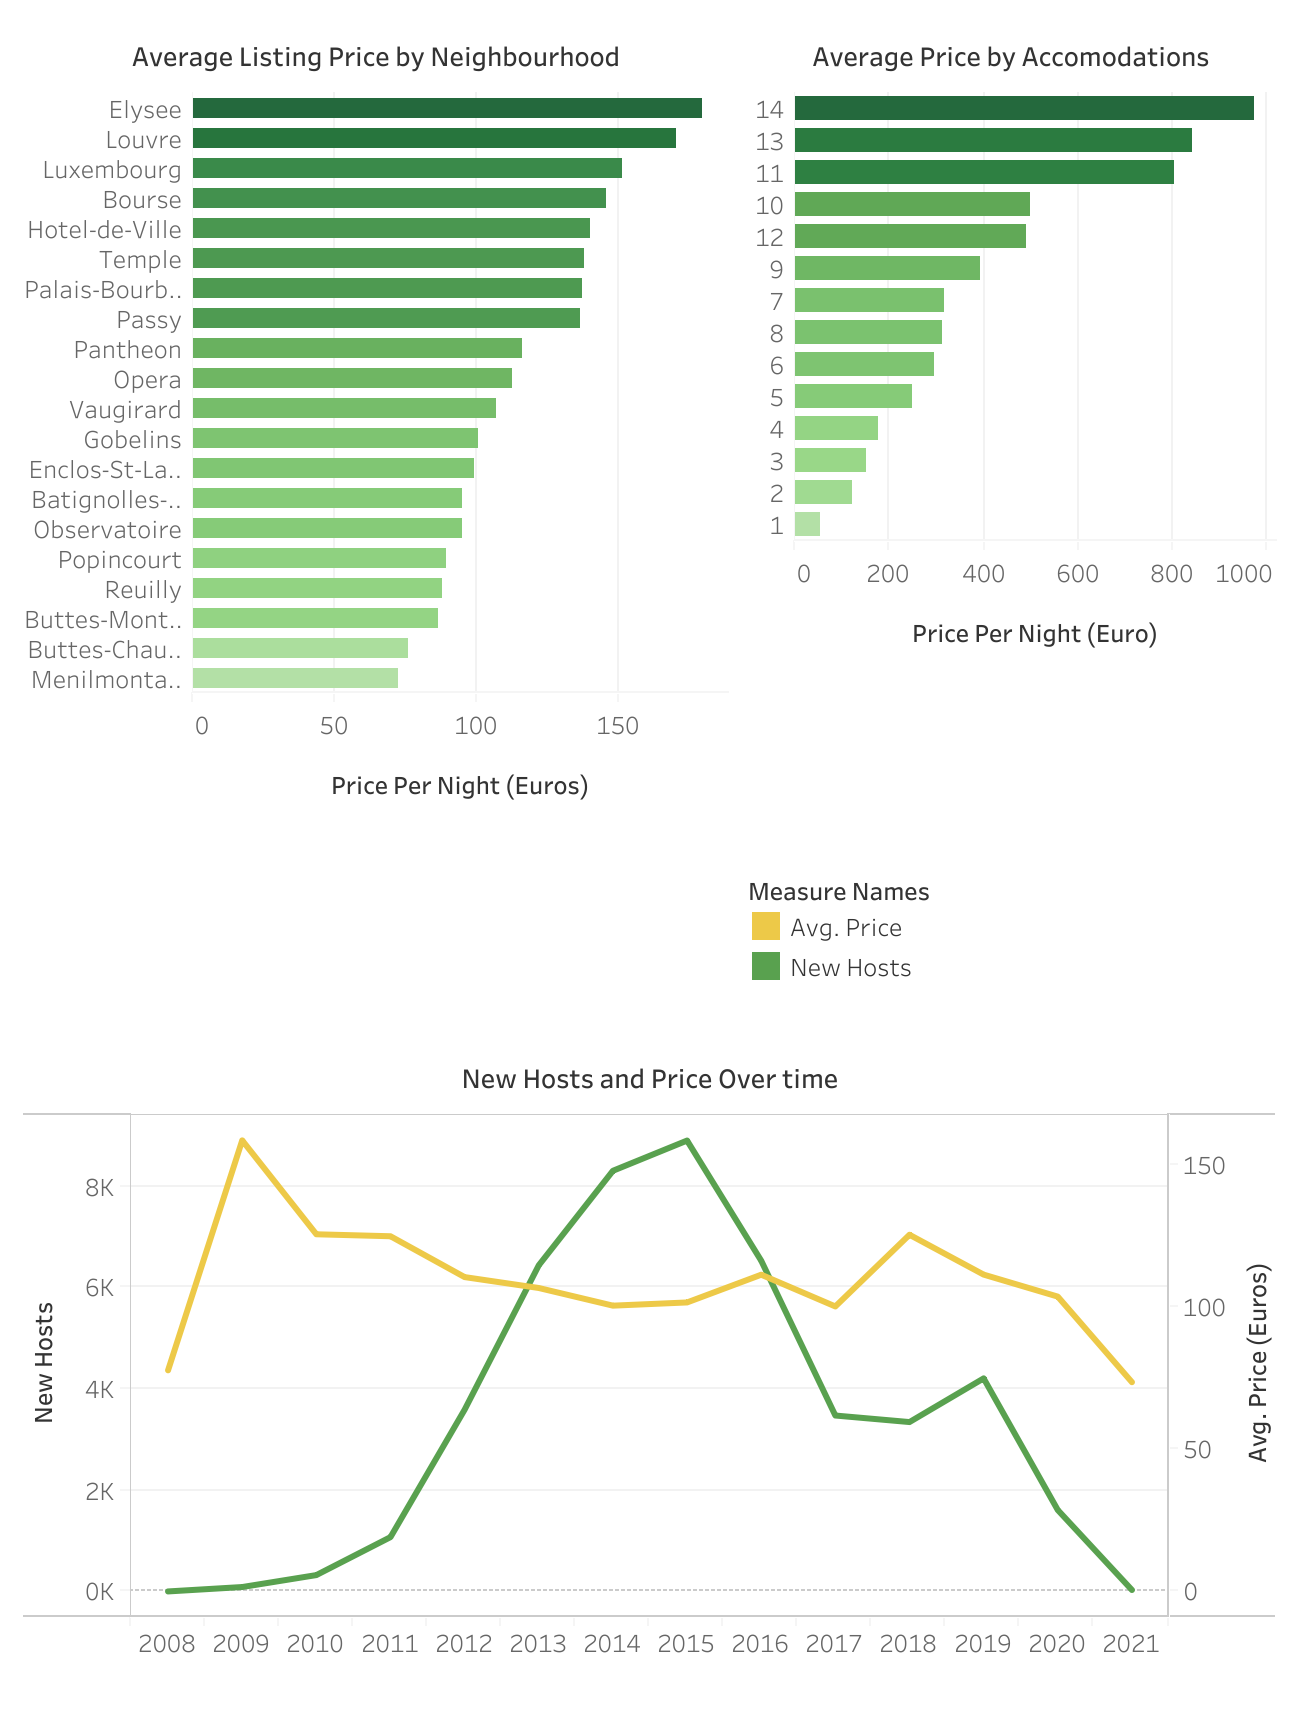

This screenshot's page, from the dashboard's own definition file:
{"tool":"tableau","page":{"name":"Dashboard 1","canvas":[650,860],"ordinal":0},"visuals":[{"type":"worksheet","title":"1","mark":"Automatic","rows":["neighbourhood"],"cols":["price"],"box":[8,10.3,361,509.1]},{"type":"worksheet","title":"2","mark":"Automatic","rows":["accommodates"],"cols":["price"],"box":[369,10.3,273,439.6]},{"type":"legend","title":"5","param":"[federated.1udcu6s13jaaj9109eec51pqn5g4].[:Measure Names]","box":[369,449.9,273,69.4]},{"type":"worksheet","title":"5","mark":"Automatic","rows":["neighbourhood","price"],"cols":["host_since"],"box":[8,519.3,634,330.4]}]}

Visuals, with their boxes in screenshot pixels (x1, y1, x2, y2), scaled from the page's 650x860 canvas onto the 1298x1716 screenshot:
"1" worksheet: BBox(16, 21, 737, 1036)
"2" worksheet: BBox(737, 21, 1282, 898)
"5" legend: BBox(737, 898, 1282, 1036)
"5" worksheet: BBox(16, 1036, 1282, 1695)
